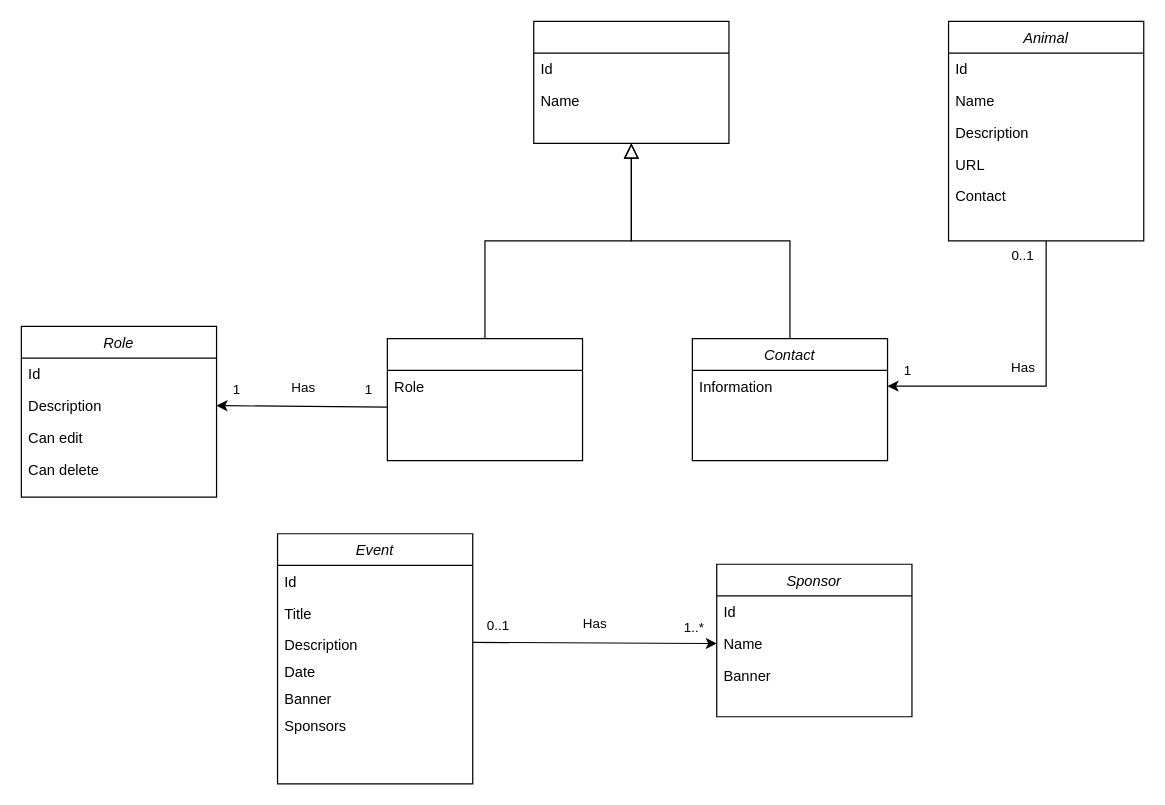
Some shapes in this 1165 by 805 pixel diagram are drawn without their labels. Here are the shapes that lost their labels. From the top down, the box of each, then its label:
(533, 20, 729, 143): Person
(386, 337, 583, 461): User
